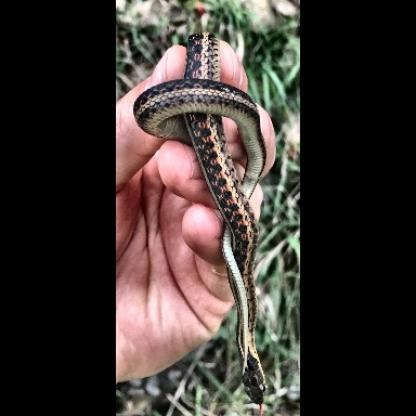Snake: (134, 28, 268, 406)
